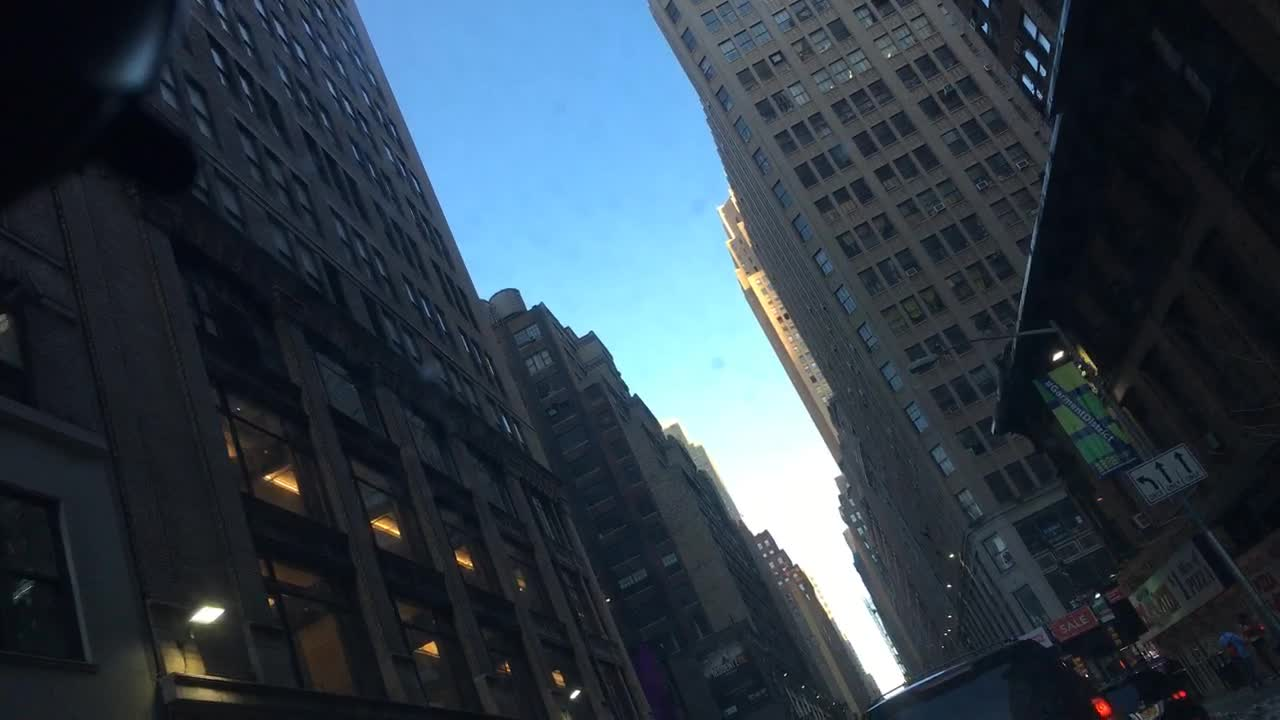car: (854, 636, 1116, 719), (1095, 659, 1208, 718)
person: (1212, 627, 1268, 695), (1238, 612, 1278, 673)
traffic sign: (1119, 444, 1206, 509), (1091, 594, 1116, 625), (1062, 650, 1089, 674), (1104, 586, 1124, 606)
